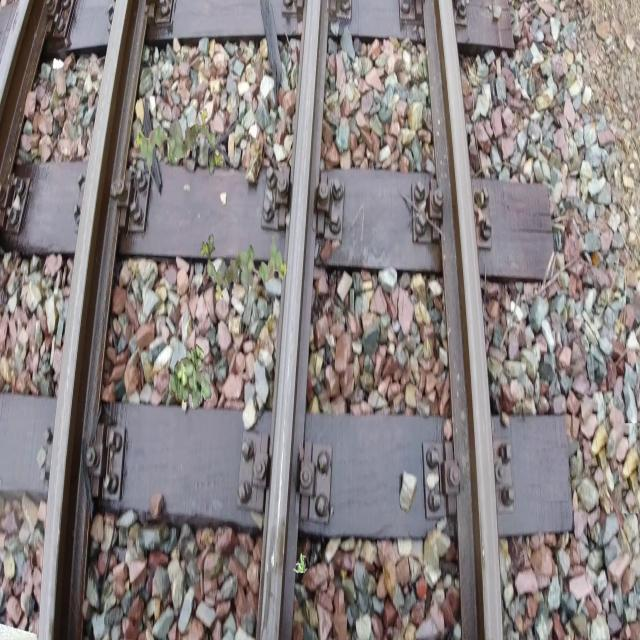Plant: (201, 233, 288, 302), (136, 108, 222, 176), (168, 344, 212, 411), (294, 553, 308, 574)
